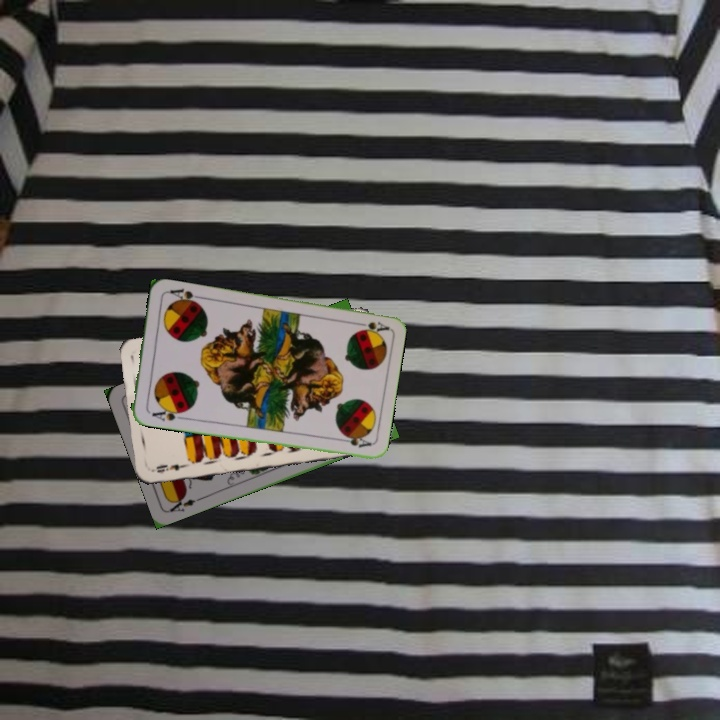E9: (150, 460, 190, 476)
EA: (166, 492, 204, 515)
SA: (148, 403, 186, 424), (350, 317, 390, 335)
